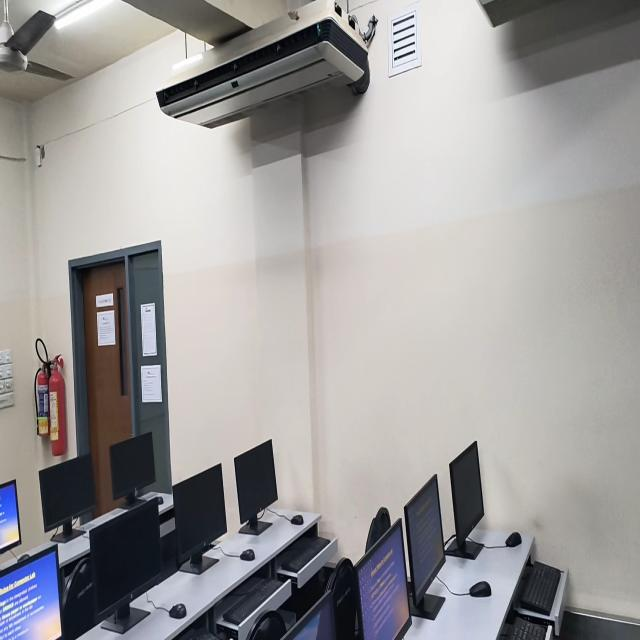Ac: (156, 0, 378, 127)
Chair: (63, 557, 94, 639), (326, 558, 356, 639), (366, 507, 391, 551), (251, 612, 286, 639)
Fire Extinguisher: (48, 355, 67, 456), (35, 369, 50, 437)
Keyboard: (223, 580, 283, 636), (519, 562, 561, 615), (279, 536, 330, 574), (509, 616, 551, 639)
Light: (54, 0, 115, 30)
Monitor: (90, 499, 161, 619), (355, 521, 411, 639), (173, 464, 227, 574), (404, 475, 445, 608), (0, 551, 61, 639), (445, 441, 484, 559), (39, 454, 95, 535), (234, 439, 278, 524), (109, 431, 156, 500), (281, 591, 336, 639), (0, 480, 21, 553)
Mouse: (469, 581, 491, 597), (168, 603, 186, 619), (505, 532, 521, 547), (290, 513, 304, 525)
